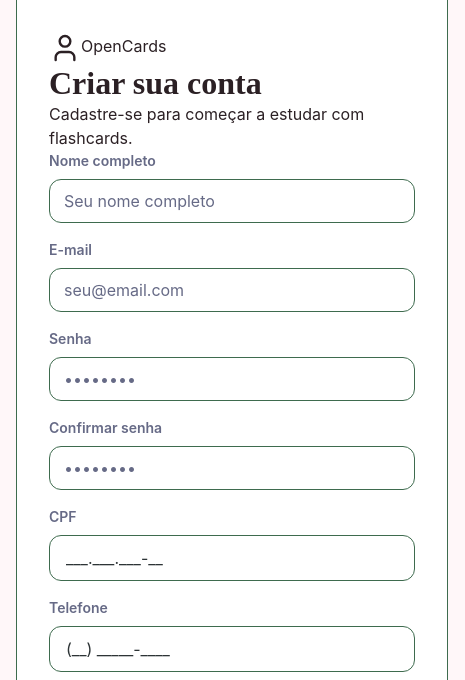
Cadastro › mapeia erro de e-mail já cadastrado do Supabase para o campo inline
The width and height of the screenshot is (465, 680).
Type "Ana Silva" into the field labelled "Nome completo" at (232, 201), box [49,179,415,223]
Type "ana@exemplo.com" into the field labelled "E-mail" at (232, 290), box [49,268,415,312]
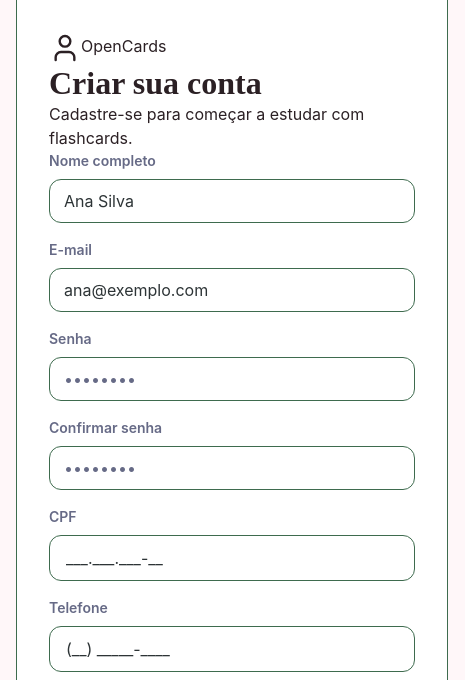
Type "senha1234" into the password field labelled "Senha" at (232, 379), box [49,357,415,401]
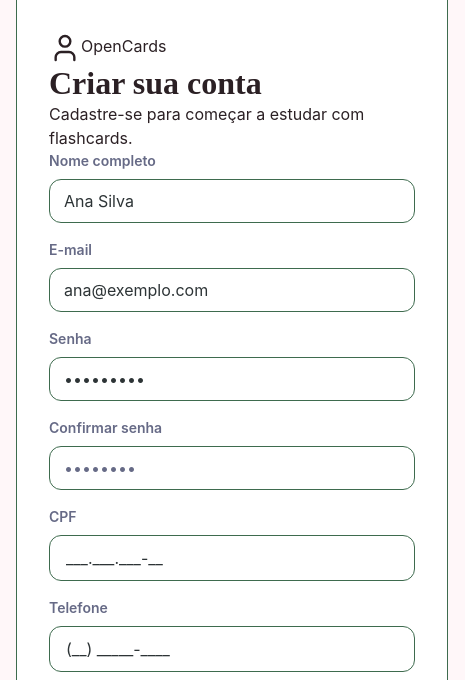
Type "senha1234" into the password field labelled "Confirmar senha" at (232, 468), box [49,446,415,490]
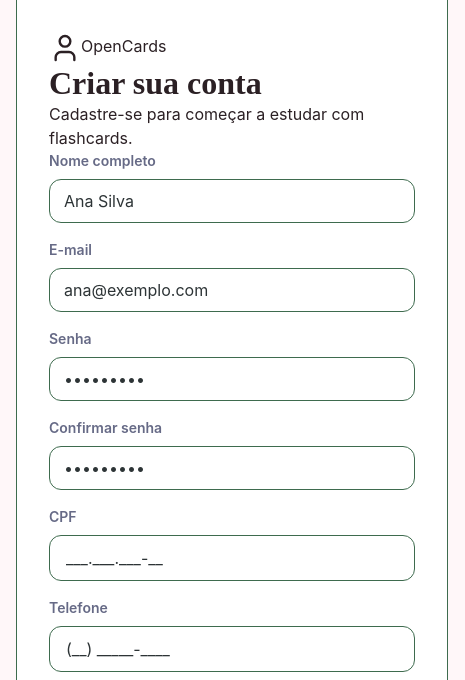
Replace the text in the field labelled "CPF" with "123.456.789-09" at (232, 558), box [49,535,415,581]
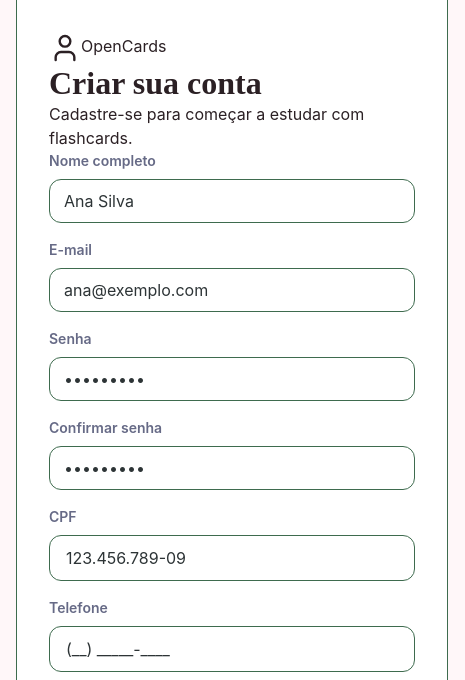
Replace the text in the field labelled "Telefone" with "(11) 99999-9999" at (232, 649), box [49,626,415,672]
(page scrolled)
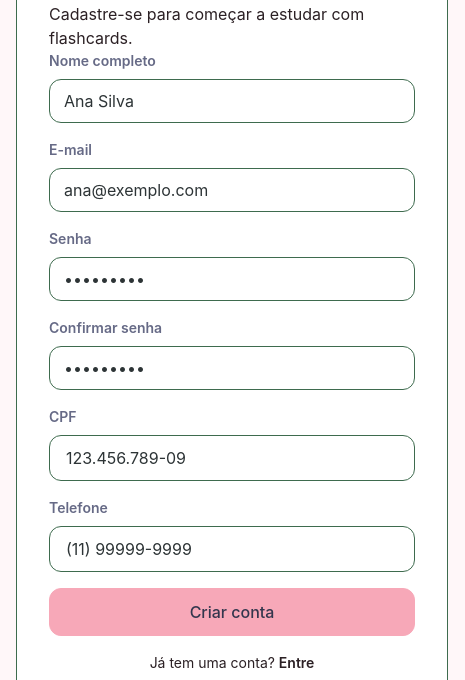
Submit the form "Criar conta"
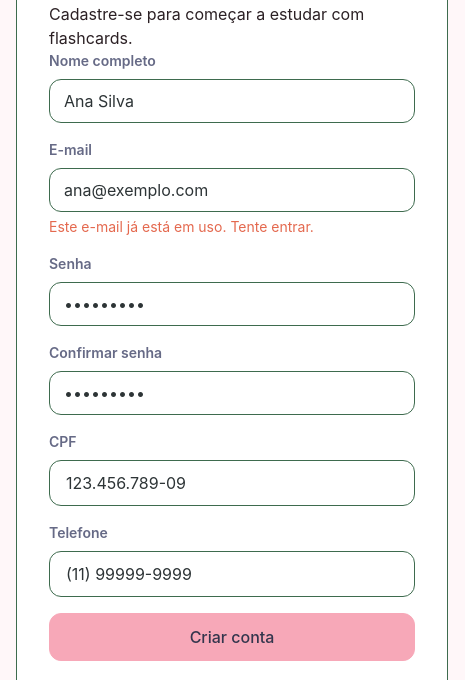
Expected: the text "Este e-mail já está em uso. Tente entrar." is shown, [49,218,314,235]
